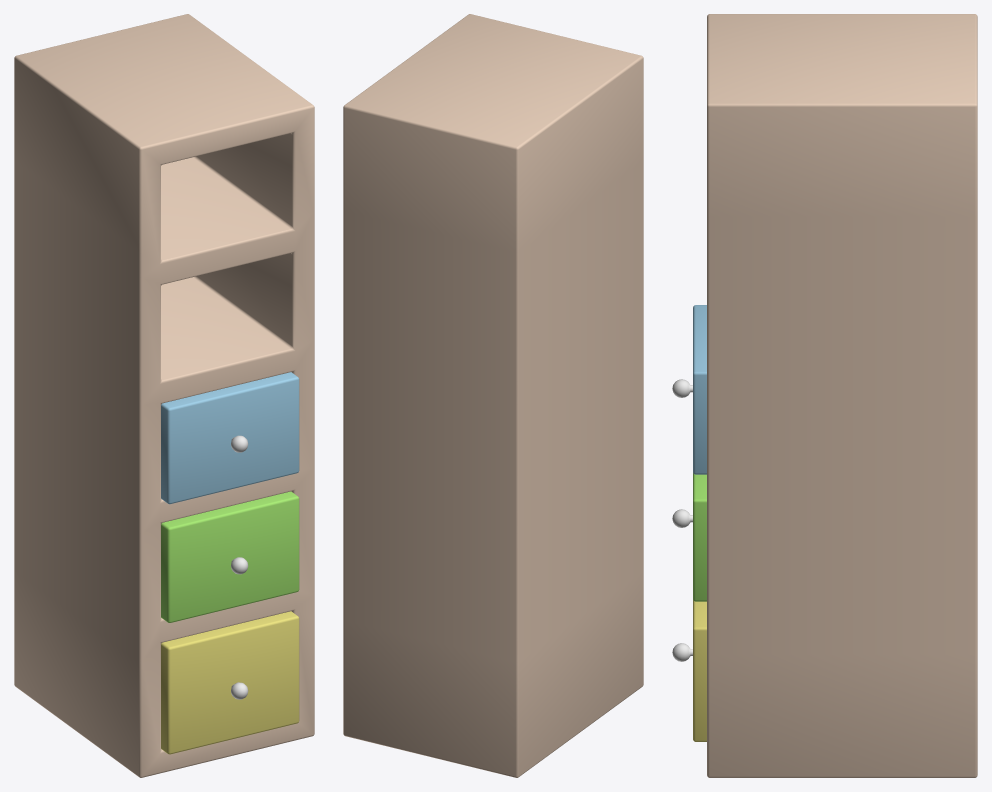
Rendered from bokkshelf.fbx.
3 views of the same model, side by side, from view 1: azimuth 30°, elevation 25°; view 2: azimuth 150°, elevation 25°; view 3: azimuth 270°, elevation 25° (orthographic). The views are drawn at different scales.
Parts seen in each view (by area): view 1: Shelf; view 2: Shelf; view 3: Shelf.
Part boxes in pixels (x1=…): Shelf: x1=14, y1=14, x2=314, y2=777; Shelf: x1=343, y1=14, x2=643, y2=777; Shelf: x1=672, y1=14, x2=977, y2=777.
Bounding box in the file's own units: 40 × 138 × 56.41.
